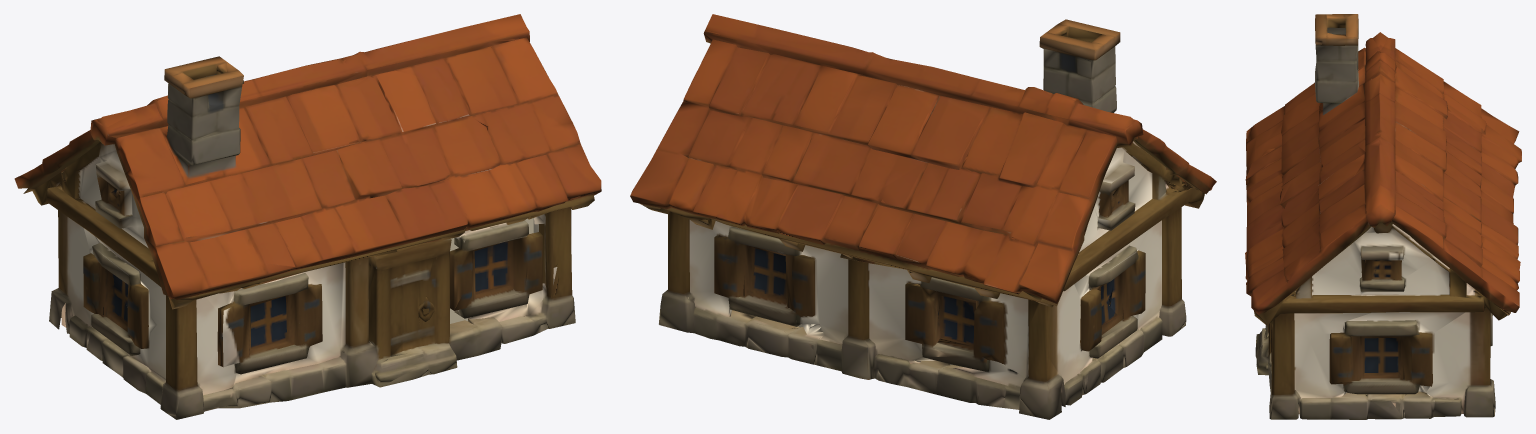
The model's file is house_a.glb.
The picture shows the model from 3 angles, left to right: view 1: azimuth 30°, elevation 25°; view 2: azimuth 150°, elevation 25°; view 3: azimuth 270°, elevation 25°; orthographic projection. The views are drawn at different scales.
Parts seen in each view (by area): view 1: house_a; view 2: house_a; view 3: house_a.
Part boxes in pixels (x1,y1,x2,y2): house_a: [14, 14, 601, 419]; house_a: [630, 14, 1216, 419]; house_a: [1245, 14, 1521, 419].
Bounding box in the file's own units: 7 × 4.81 × 4.56.
Materials: 2 (1 with a texture image).
